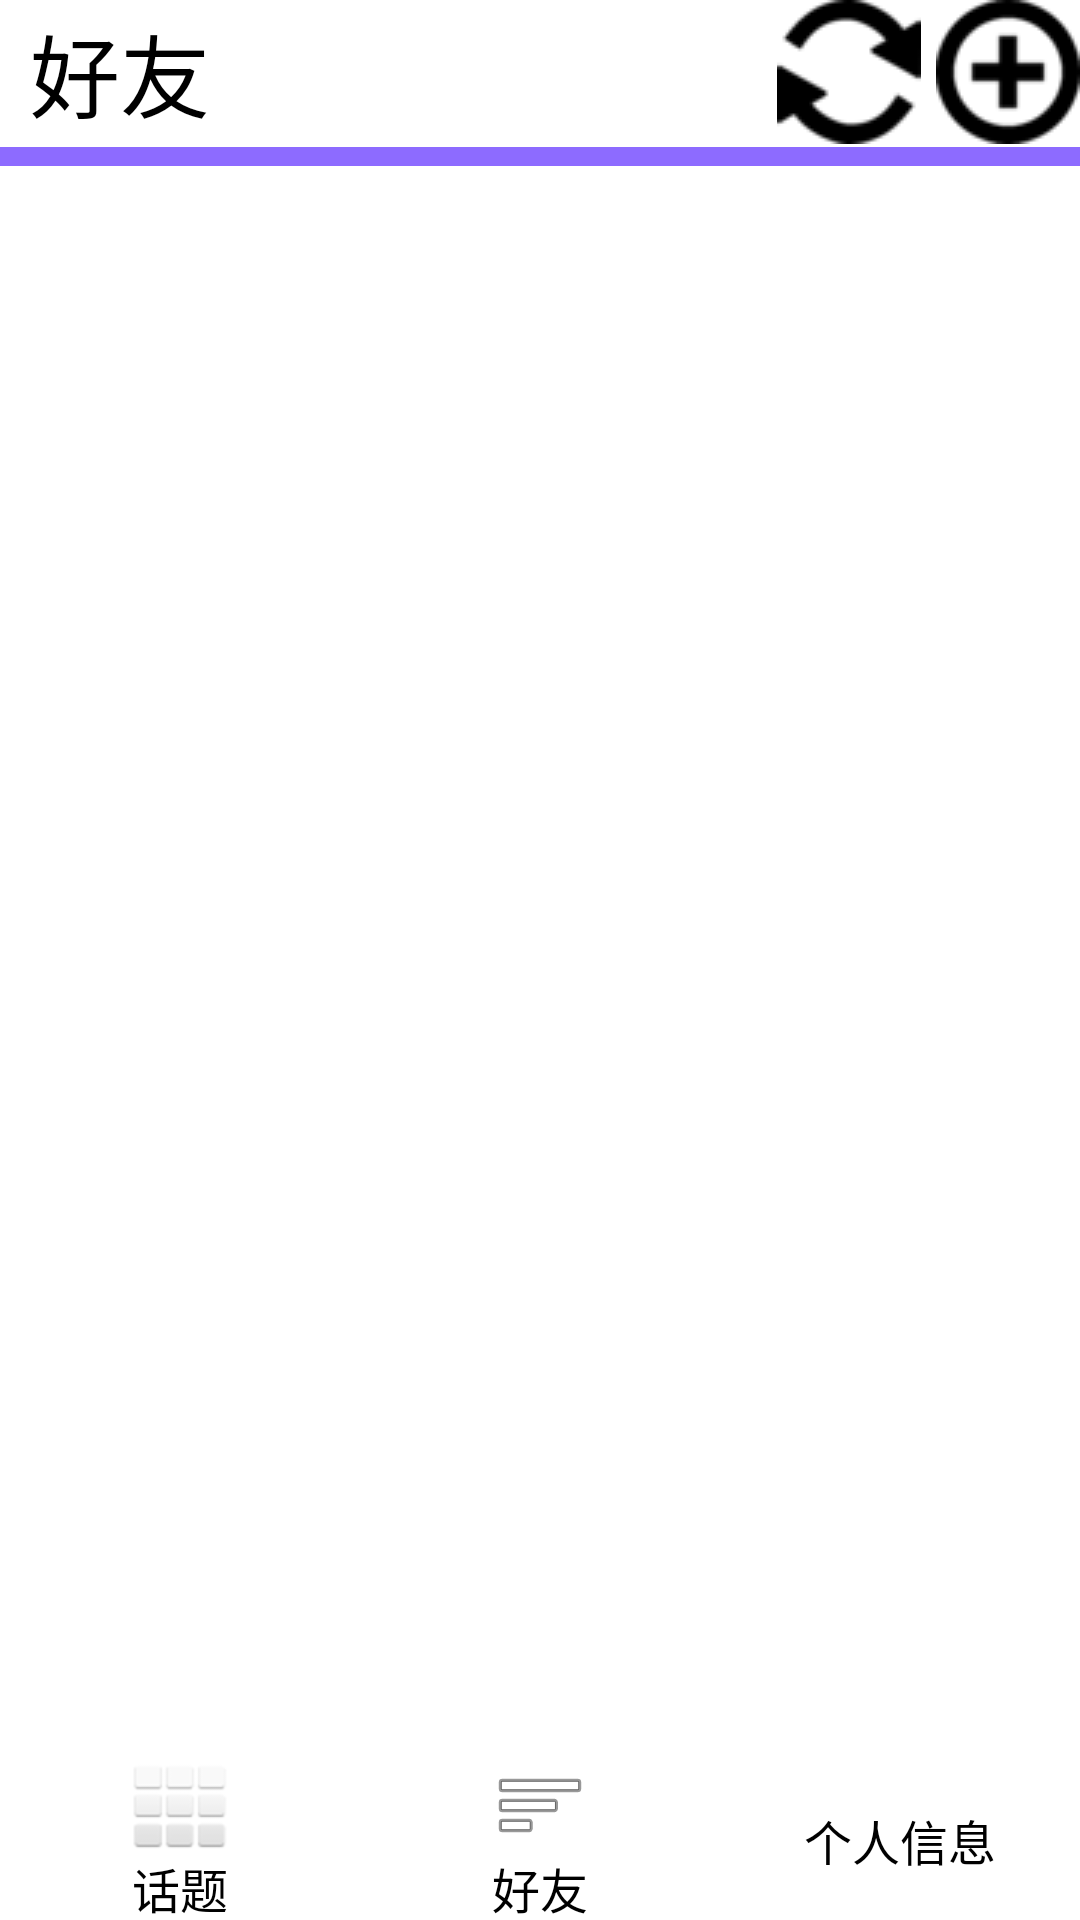

Screen size 1080 x 1920. Icon name, then its box in pixels as rect(x1, y1, x2, y2):
add: rect(936, 0, 1080, 144)
refresh: rect(777, 0, 921, 144)
